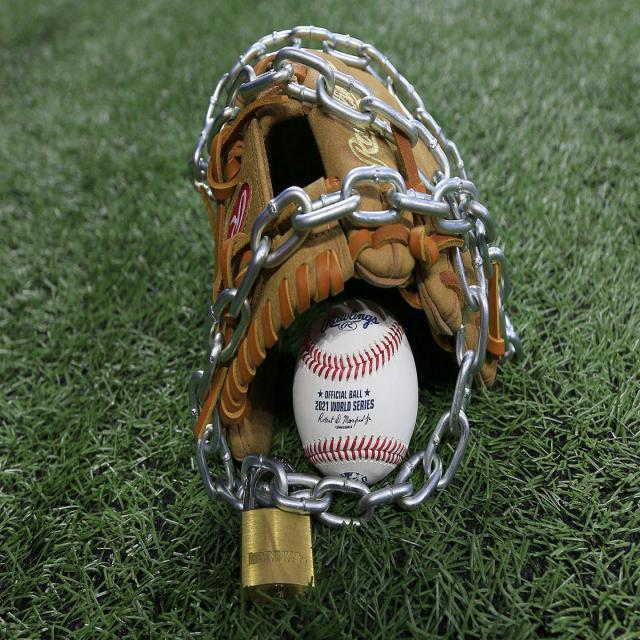baseball: (288, 298, 419, 482)
